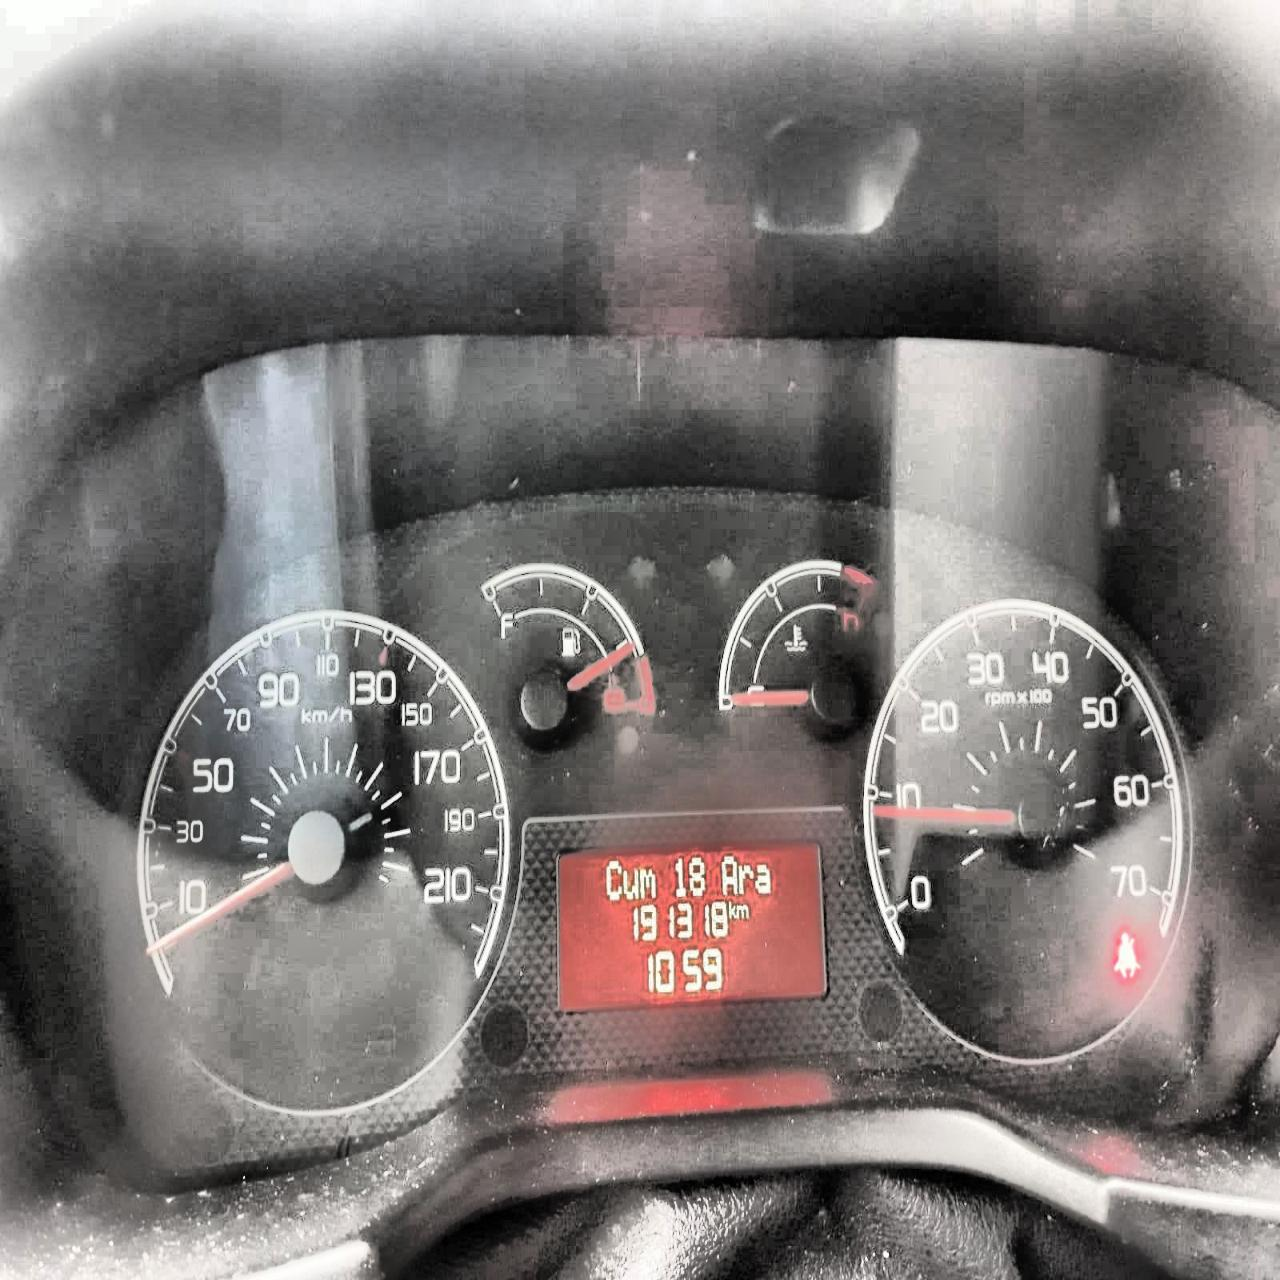0: (654, 947, 675, 994)
1: (670, 853, 687, 900), (644, 948, 654, 994), (663, 903, 675, 939), (700, 899, 710, 938), (629, 904, 639, 941)
3: (676, 899, 693, 940)
5: (680, 946, 702, 993)
8: (687, 853, 706, 898), (710, 898, 727, 939)
9: (701, 945, 722, 990), (640, 901, 658, 941)
X: (602, 856, 621, 905), (717, 852, 737, 897), (621, 864, 640, 904), (755, 859, 771, 898), (639, 865, 656, 900), (738, 859, 754, 897), (735, 901, 750, 919), (727, 897, 735, 921)
odometer: (549, 836, 832, 1017)
